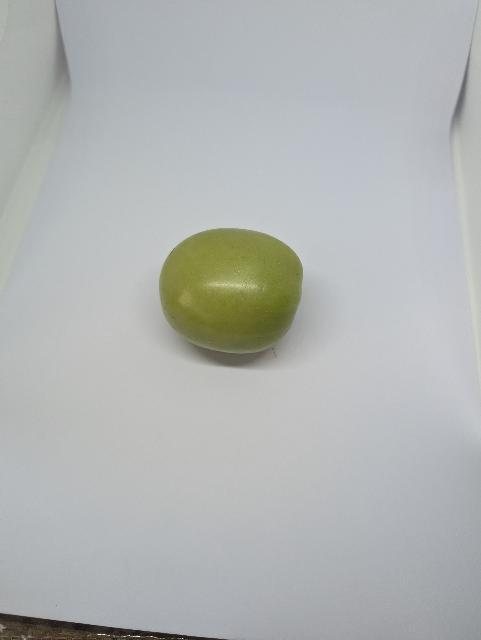green: (142, 203, 311, 372)
